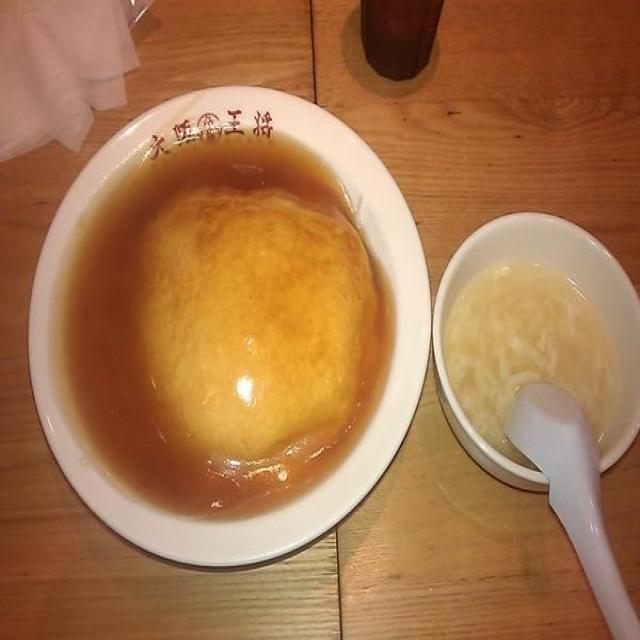汤锅炖物: (424, 192, 640, 495)
